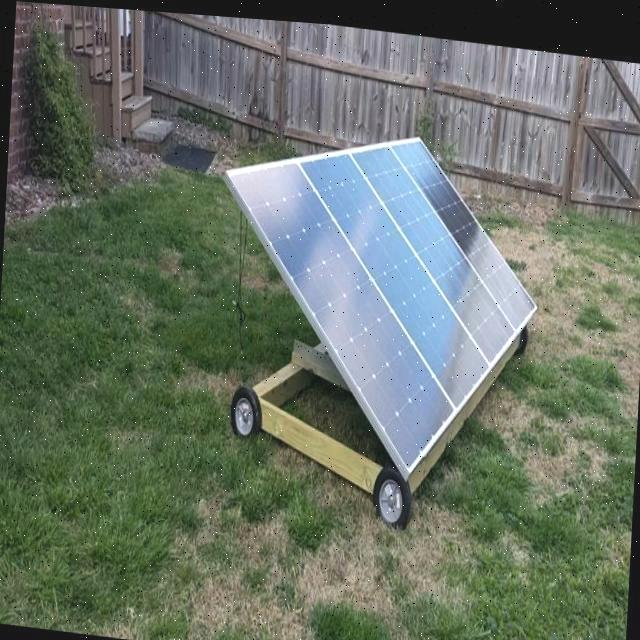Normal Solar Panel: (212, 110, 546, 480)
